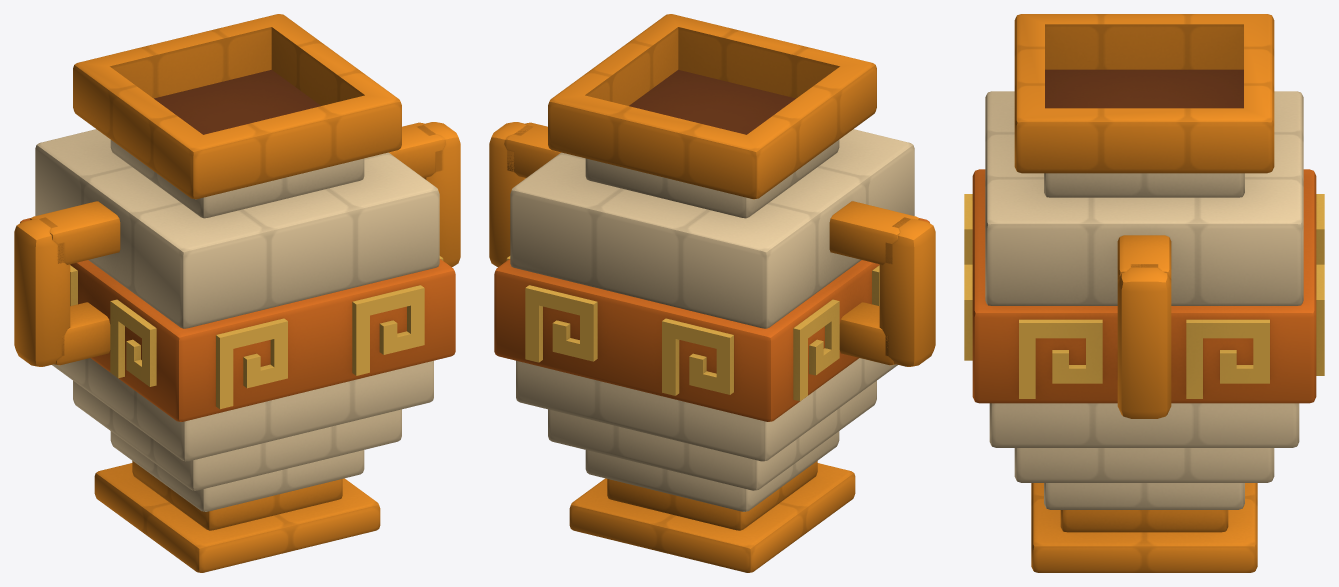
File: ArtV12_Vase.fbx
3 views of the same model, side by side, from view 1: azimuth 30°, elevation 25°; view 2: azimuth 150°, elevation 25°; view 3: azimuth 270°, elevation 25° (orthographic). The views are drawn at different scales.
Parts seen in each view (by area): view 1: ArtV12_Vase; view 2: ArtV12_Vase; view 3: ArtV12_Vase.
Boxes of the visible parts, left/top/right/bottom form: ArtV12_Vase: left=14, top=14, right=460, bottom=572; ArtV12_Vase: left=489, top=14, right=935, bottom=572; ArtV12_Vase: left=964, top=14, right=1324, bottom=572.
Size of the model in its own units: 3.16 by 3.04 by 2.15.
